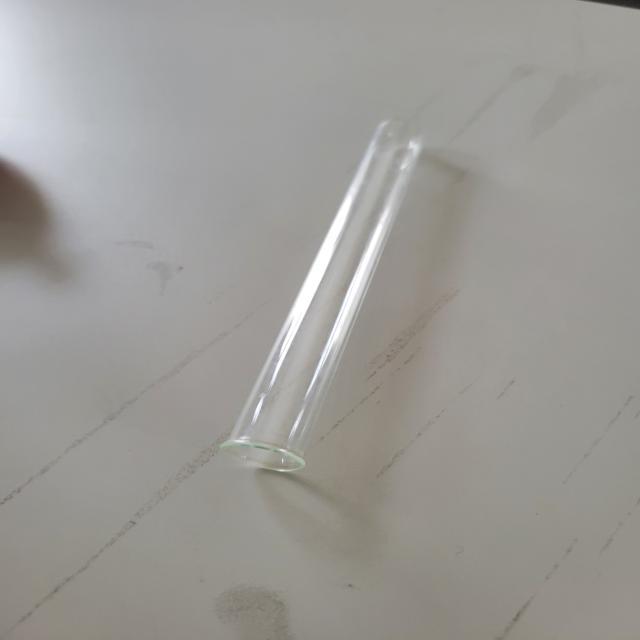Test_Tube: (199, 59, 514, 512)
